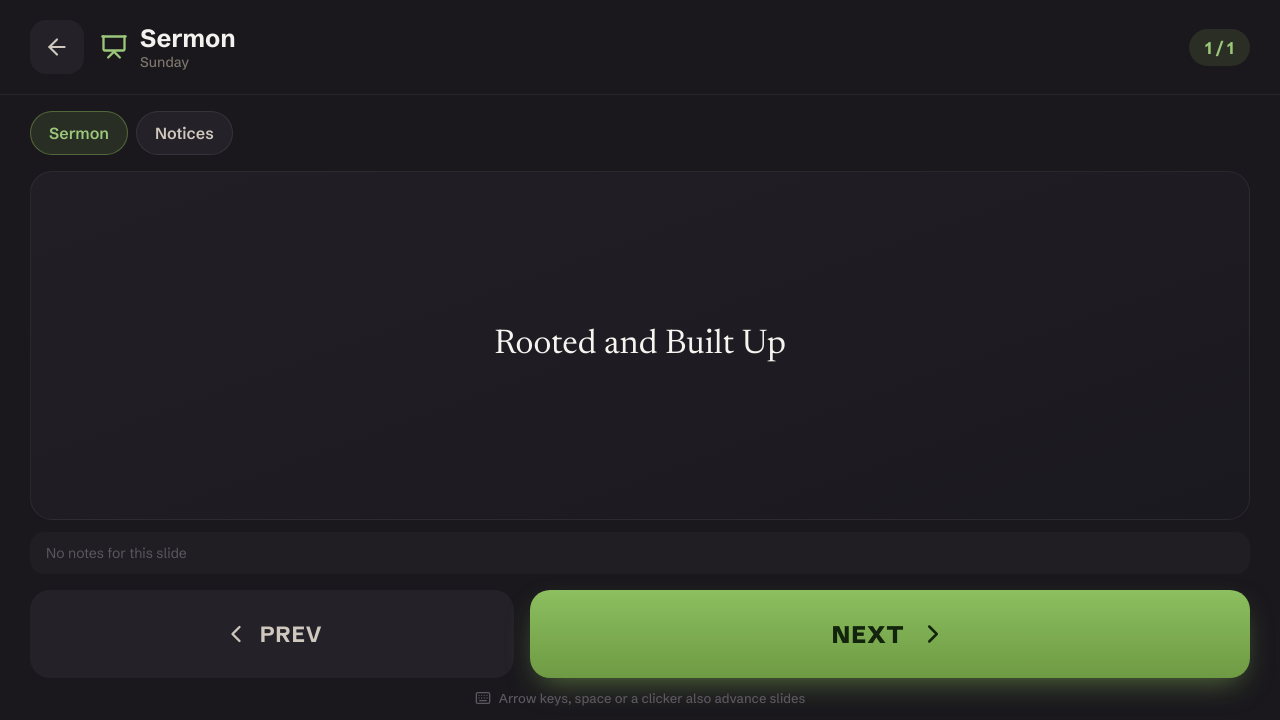
it: SHOW reply correlation › files a cached show’s reply under itself, not under whatever was live
This screenshot has width=1280, height=720.
Expected: the text "Rooted and Built Up" is shown, [494,321,786,370]
Click the button "Notices" at (184, 133), box [136,111,233,155]
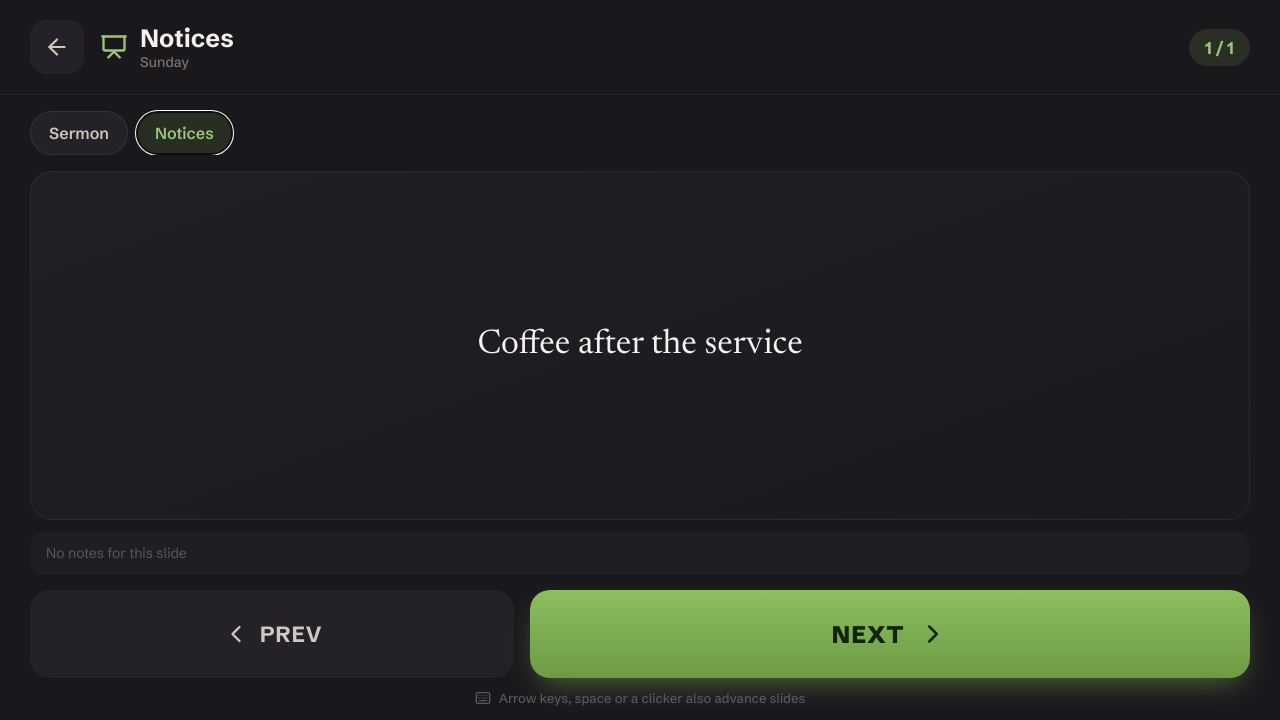
Result: the text "Coffee after the service" is shown at [477,321,803,370]
Click the button "Sermon" at (79, 133), box [30,111,128,155]
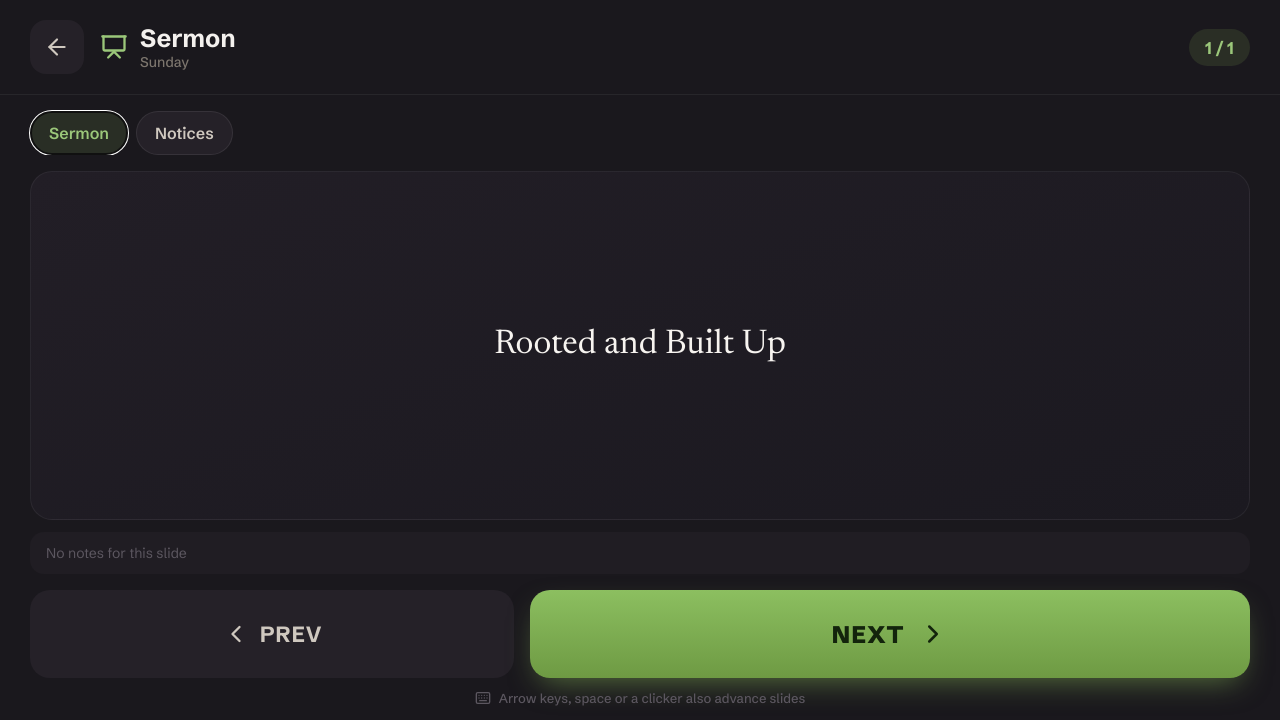
Result: the text "Rooted and Built Up" is shown at [494,321,786,370]
Result: the text "Coffee after the service" is gone
